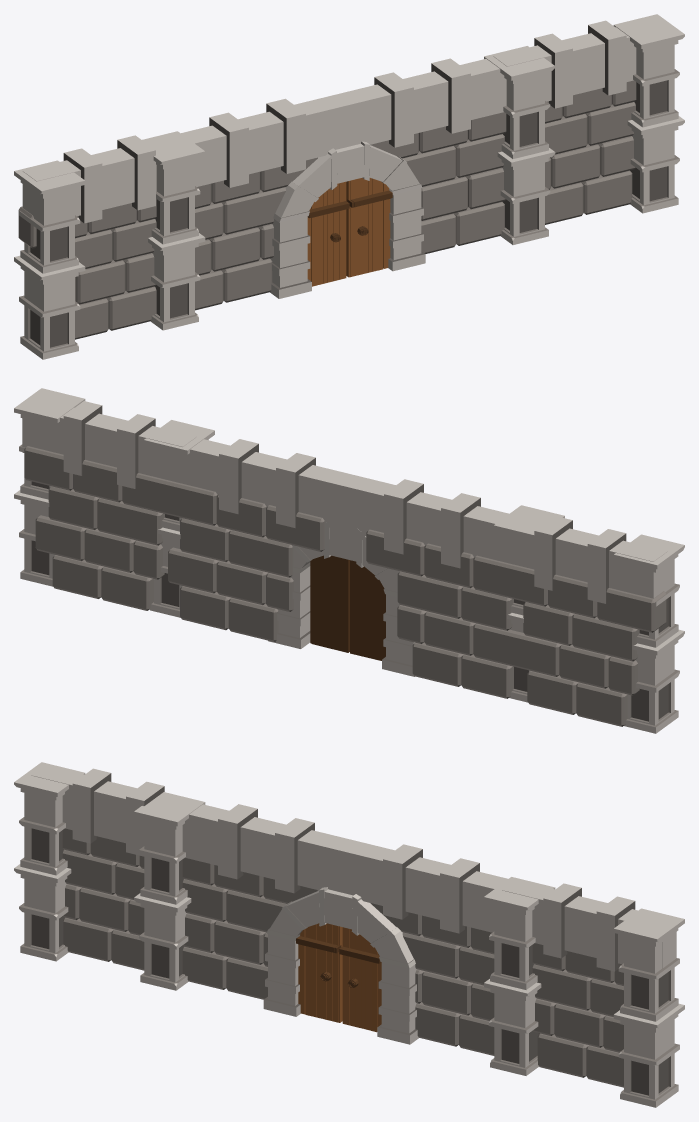
The model's file is JUSTPORTAL.fbx.
3 renders of one model, top to bottom at view 1: azimuth 30°, elevation 25°; view 2: azimuth 150°, elevation 25°; view 3: azimuth 330°, elevation 25°, orthographic.
Parts seen in each view (by area): view 1: Cube.241; view 2: Cube.241; view 3: Cube.241.
Boxes of the visible parts, bbox=[...] form: Cube.241: bbox=[14, 14, 684, 359]; Cube.241: bbox=[14, 388, 684, 733]; Cube.241: bbox=[14, 762, 684, 1107].
Bounding box in the file's own units: 13135 × 3453 × 1006.
